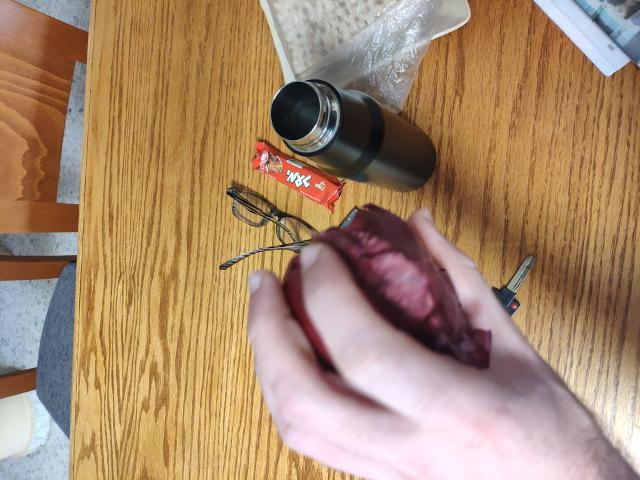onion: (288, 223, 471, 368)
